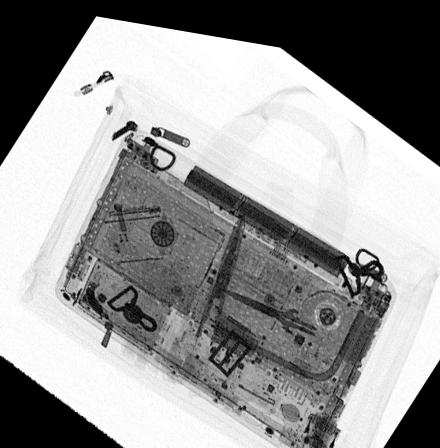Scissors: (161, 200, 250, 384), (216, 278, 321, 331)
